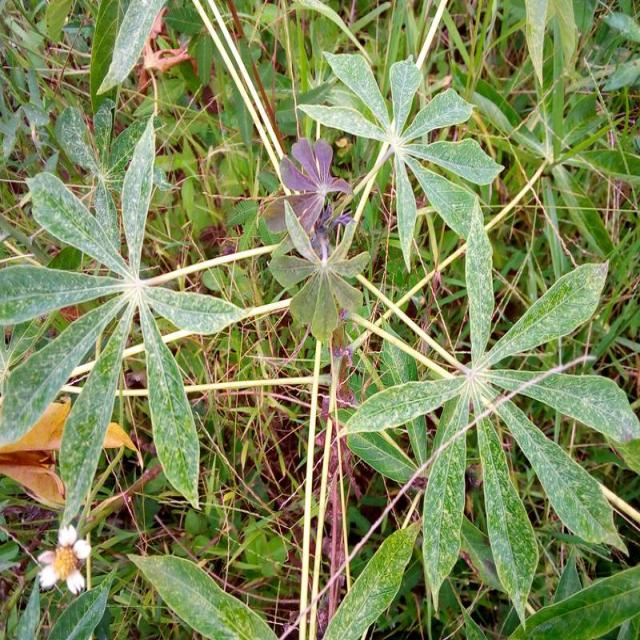cassava leaf: (343, 193, 639, 630), (2, 104, 247, 530), (296, 48, 506, 273)
